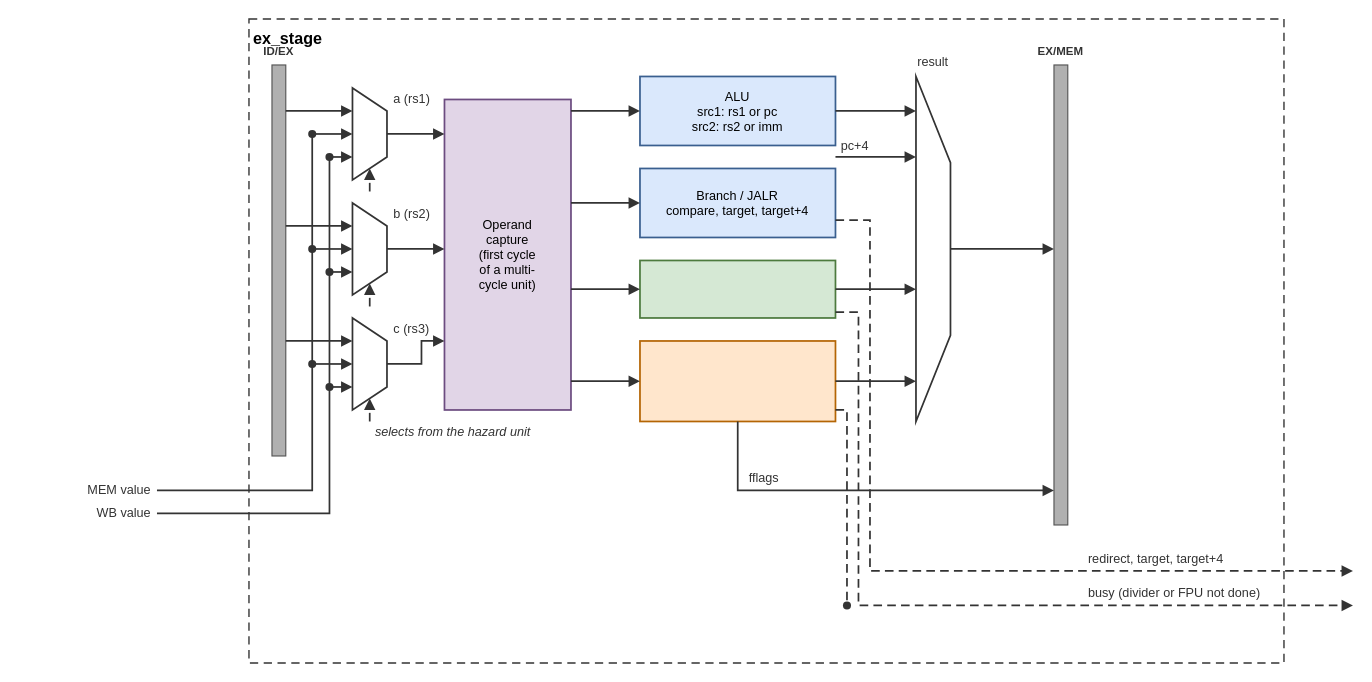
Image size: 1372x682. Some labels were removed from this diagram. The centre of each missing label's shape, as x and y in pixels:
div (M): pixel 737 288
fpu_top (F): pixel 737 381
